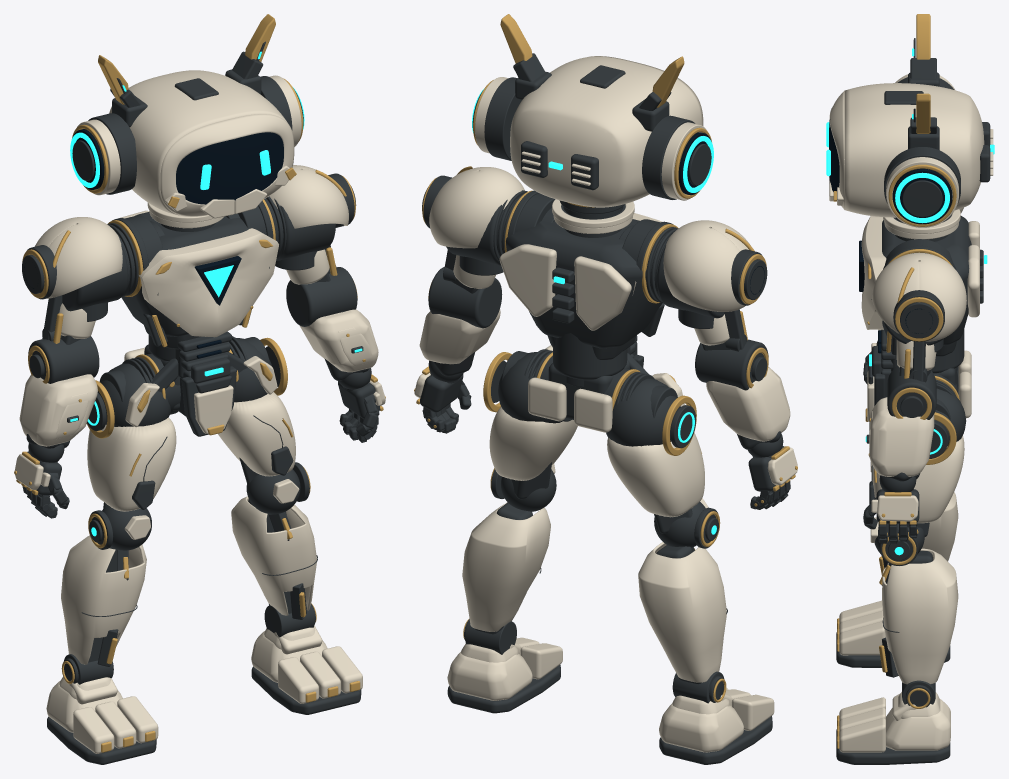
Rendered from robo-jack.glb.
The picture shows the model from 3 angles, left to right: view 1: azimuth 30°, elevation 25°; view 2: azimuth 150°, elevation 25°; view 3: azimuth 270°, elevation 25°; orthographic projection. The views are drawn at different scales.
Visible parts, largest first — view 1: Ref16_CompoundChestShell.001, Finish_QuadHelmetHousing.001, Ref16_NotchedCalfArmor.R.001, Ref16_NotchedCalfArmor.L.001, Target_ThighJacket.R.001, Finish_QuadCurvedVisor.001, Ref16_SculptedPauldron.R.001, Target_ThighJacket.L.001, Finish_QuadBrowJawSurround.001, Arm_ForearmShell.R.001, Ref16_SculptedPauldron.L.001, Elbow_Joint.L.001 (+42 smaller); view 2: Finish_QuadHelmetHousing.001, Ref16_NotchedCalfArmor.R.001, Ref16_NotchedCalfArmor.L.001, Torso_ArmoredChassis.001, Ref16_SculptedPauldron.R.001, Target_ThighJacket.R.001, Ref16_SculptedPauldron.L.001, Target_ThighJacket.L.001, Arm_ForearmShell.R.001, Target_BackShell.R.001, Target_HeelHousing.L.001, Target_HeelHousing.R.001 (+45 smaller); view 3: Finish_QuadHelmetHousing.001, Ref16_NotchedCalfArmor.L.001, Ref16_SculptedPauldron.L.001, Arm_ForearmShell.L.001, Target_ThighJacket.L.001, Target_HeelHousing.L.001, Torso_ArmoredChassis.001, Ref16_CompoundChestShell.001, Target_ContouredSole.L.001, Target_FittedToe_2.L.001, Elbow_Joint.L.001, Ref16_NotchedCalfArmor.R.001 (+44 smaller).
Boxes of the visible parts, x1,y1,x2,y2 form: Ref16_CompoundChestShell.001: (138, 228, 278, 337); Finish_QuadHelmetHousing.001: (109, 70, 287, 215); Ref16_NotchedCalfArmor.R.001: (61, 535, 146, 664); Ref16_NotchedCalfArmor.L.001: (231, 496, 316, 615); Target_ThighJacket.R.001: (87, 417, 176, 511); Finish_QuadCurvedVisor.001: (176, 132, 283, 204); Ref16_SculptedPauldron.R.001: (35, 217, 122, 298); Target_ThighJacket.L.001: (218, 392, 295, 476); Finish_QuadBrowJawSurround.001: (160, 114, 294, 216); Arm_ForearmShell.R.001: (19, 374, 97, 446); Ref16_SculptedPauldron.L.001: (269, 165, 348, 228); Elbow_Joint.L.001: (286, 267, 357, 326); Finish_QuadHelmetHousing.001: (510, 56, 703, 207); Ref16_NotchedCalfArmor.R.001: (638, 542, 726, 682); Ref16_NotchedCalfArmor.L.001: (462, 502, 550, 631); Torso_ArmoredChassis.001: (506, 219, 662, 348); Ref16_SculptedPauldron.R.001: (663, 220, 749, 311); Target_ThighJacket.R.001: (607, 433, 704, 517); Ref16_SculptedPauldron.L.001: (429, 167, 524, 248); Target_ThighJacket.L.001: (489, 407, 577, 480); Arm_ForearmShell.R.001: (706, 367, 790, 441); Target_BackShell.R.001: (574, 256, 631, 330); Target_HeelHousing.L.001: (447, 652, 532, 700); Target_HeelHousing.R.001: (659, 703, 743, 752); Finish_QuadHelmetHousing.001: (844, 83, 984, 217); Ref16_NotchedCalfArmor.L.001: (882, 548, 958, 684); Ref16_SculptedPauldron.L.001: (872, 252, 966, 341); Arm_ForearmShell.L.001: (869, 397, 934, 476); Target_ThighJacket.L.001: (872, 435, 964, 523); Target_HeelHousing.L.001: (886, 699, 950, 750); Torso_ArmoredChassis.001: (882, 216, 971, 345); Ref16_CompoundChestShell.001: (861, 216, 886, 329); Target_ContouredSole.L.001: (836, 729, 950, 764); Target_FittedToe_2.L.001: (839, 718, 885, 752); Elbow_Joint.L.001: (887, 366, 936, 419); Ref16_NotchedCalfArmor.R.001: (922, 492, 958, 561).
Bounding box in the file's own units: 0.9738 × 1.74 × 0.411.
